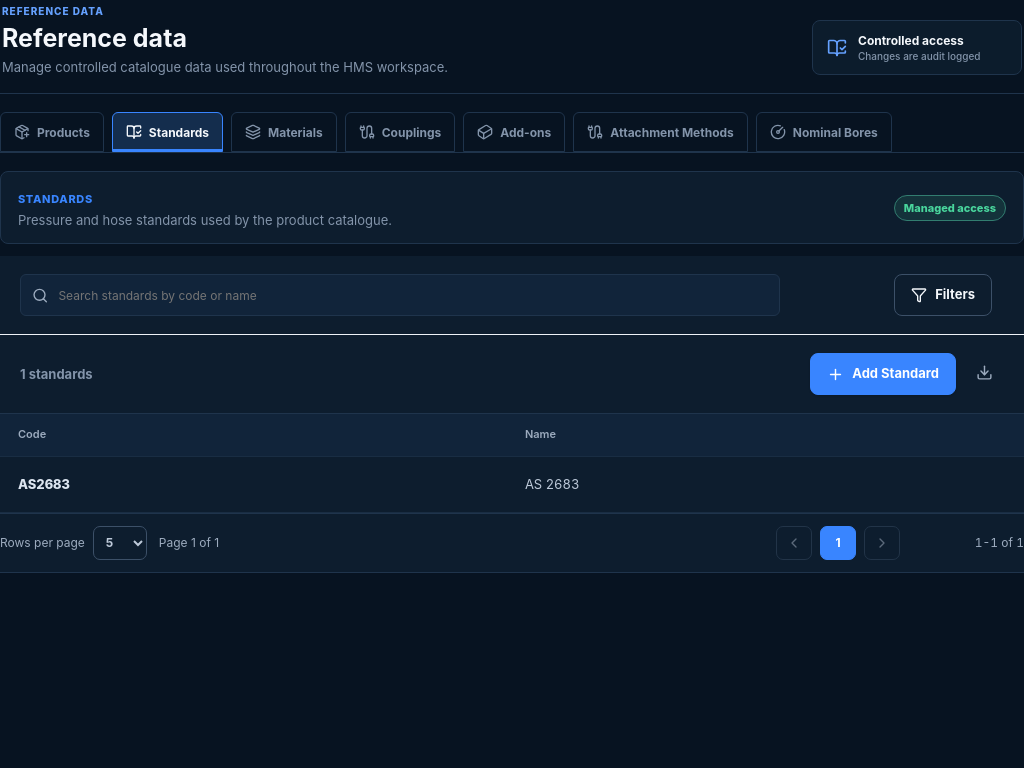
Test: ReferenceWorkspace › loads a category and saves a new controlled catalog item
The width and height of the screenshot is (1024, 768).
Click the tab "Materials" at [284, 132], box x1=231 y1=112 x2=337 y2=152
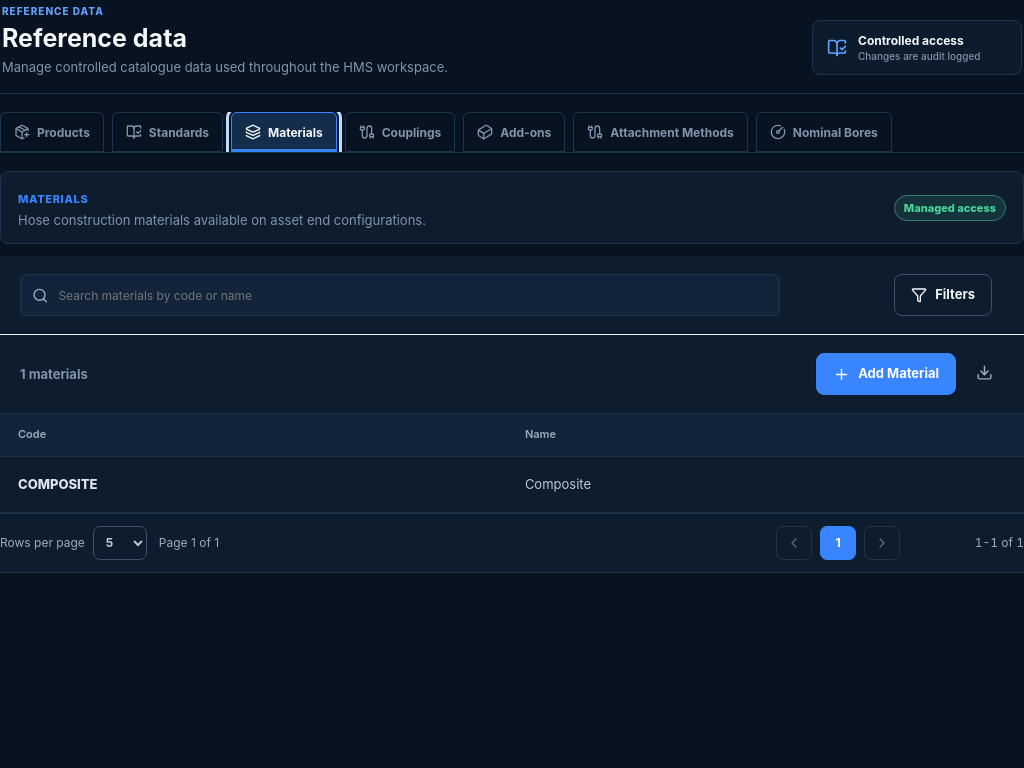
Check: the text "Composite" is shown, box x1=507 y1=456 x2=1014 y2=512
Click the button "Add Material" at [886, 374], box x1=816 y1=353 x2=956 y2=395
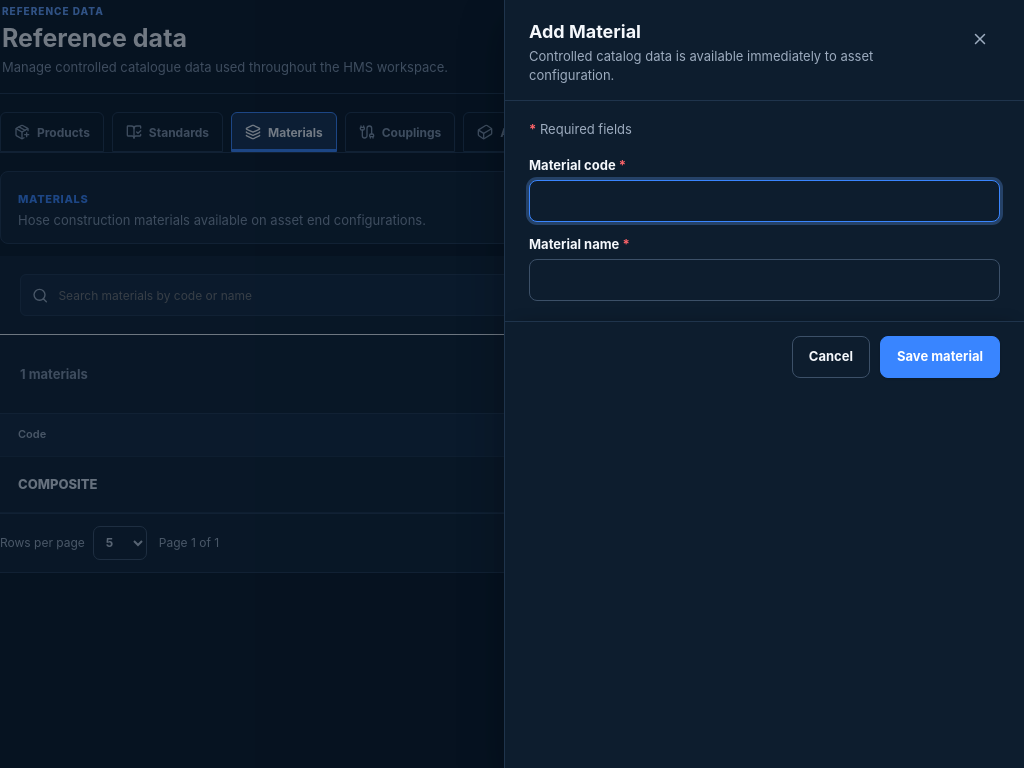
Type "carbon_steel" into the field labelled "Material code" at [764, 201], box x1=529 y1=180 x2=1000 y2=222
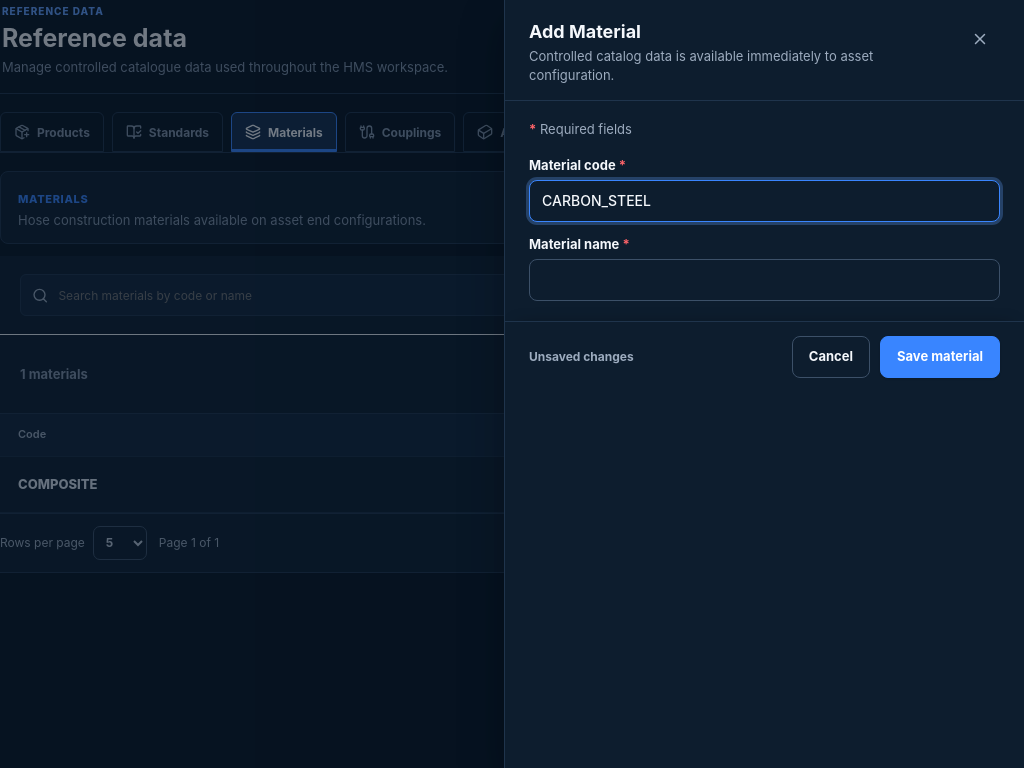
Type "Carbon steel" into the field labelled "Material name" at [764, 280], box x1=529 y1=259 x2=1000 y2=301
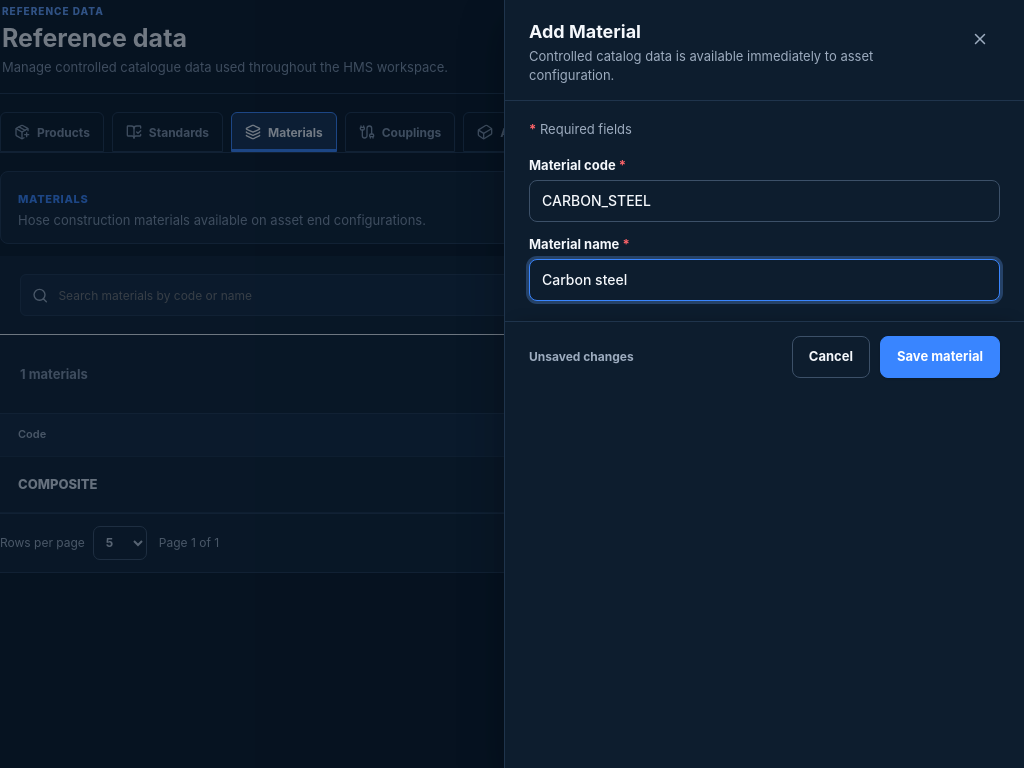
Click the button "Save material" at [940, 357], box x1=880 y1=336 x2=1000 y2=378
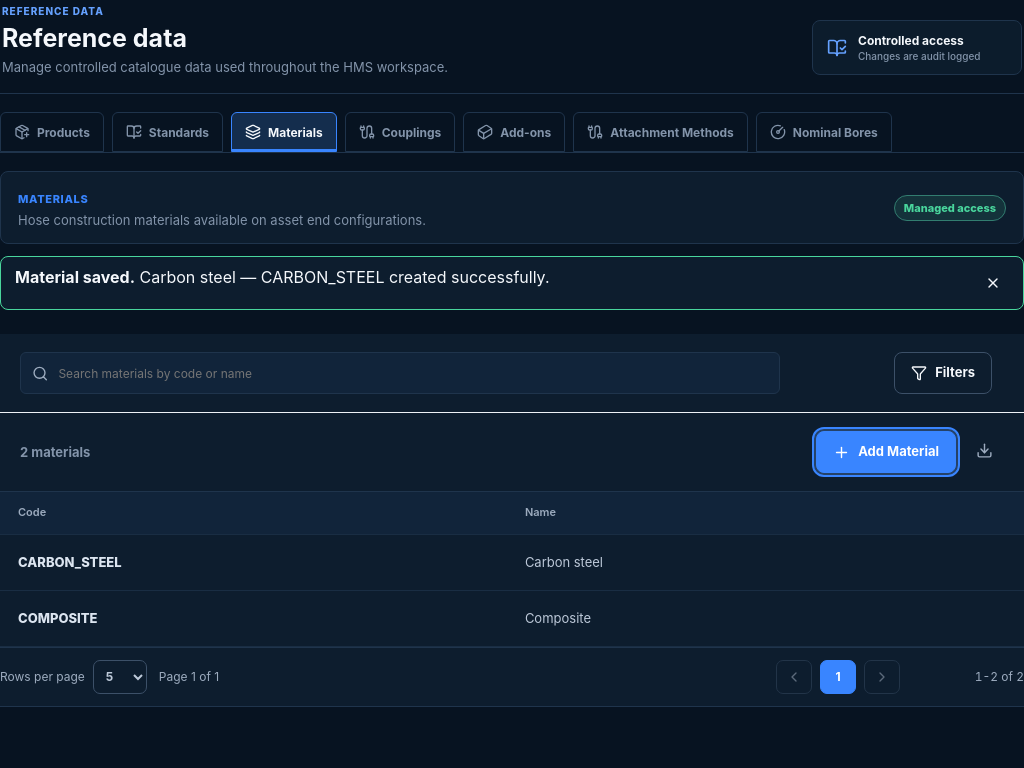
Check: the text "Carbon steel" is shown, box x1=507 y1=534 x2=1014 y2=590
